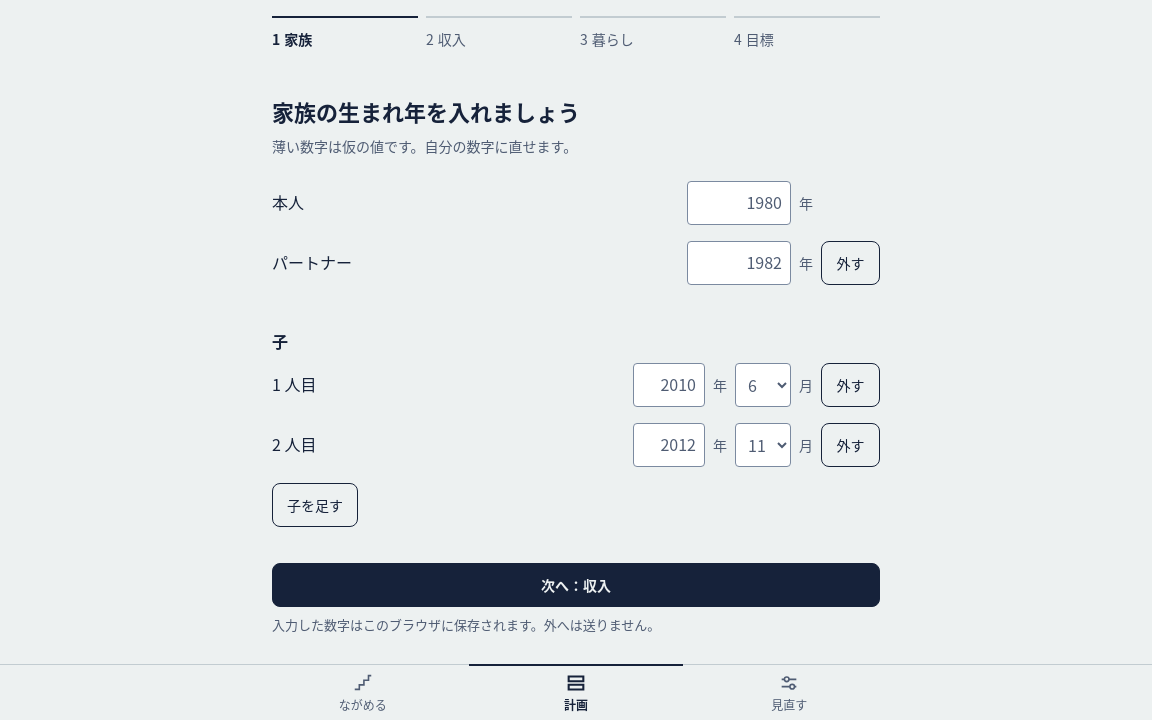
Test: 計画（T6） › 子とパートナーの「外す」は 2 回押し。外すとその行の印も外れる
The width and height of the screenshot is (1152, 720).
Earlier steps of the test are not shown.
Replace the text in the field labelled "1 人目" with "2011". click: (669, 385)
box: [633,363,705,407]
Click the button with aria-label "1 人目の子を外す". click: (850, 385)
box: [821,363,880,407]
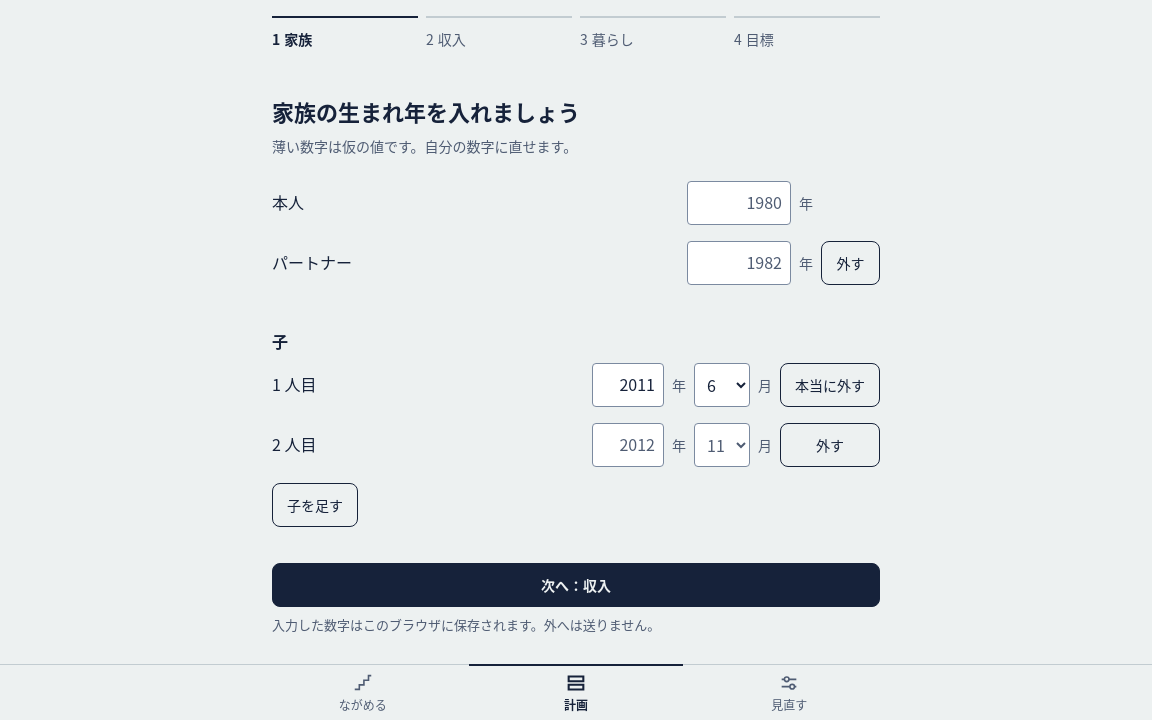
Result: the button with aria-label "2 人目の子を外す" is shown at [780,423,880,467]
Click the button with aria-label "1 人目の子を本当に外す". click: (830, 385)
box: [780,363,880,407]
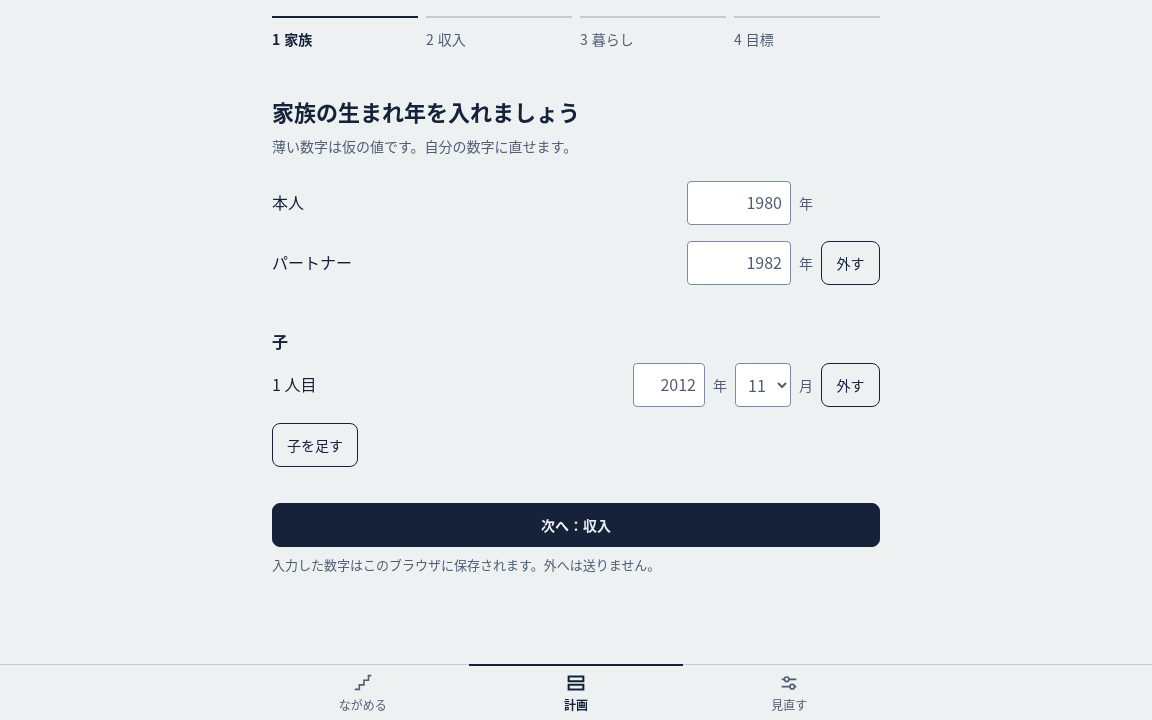
Click the button "子を足す". click: (315, 445)
box: [272,423,358,467]
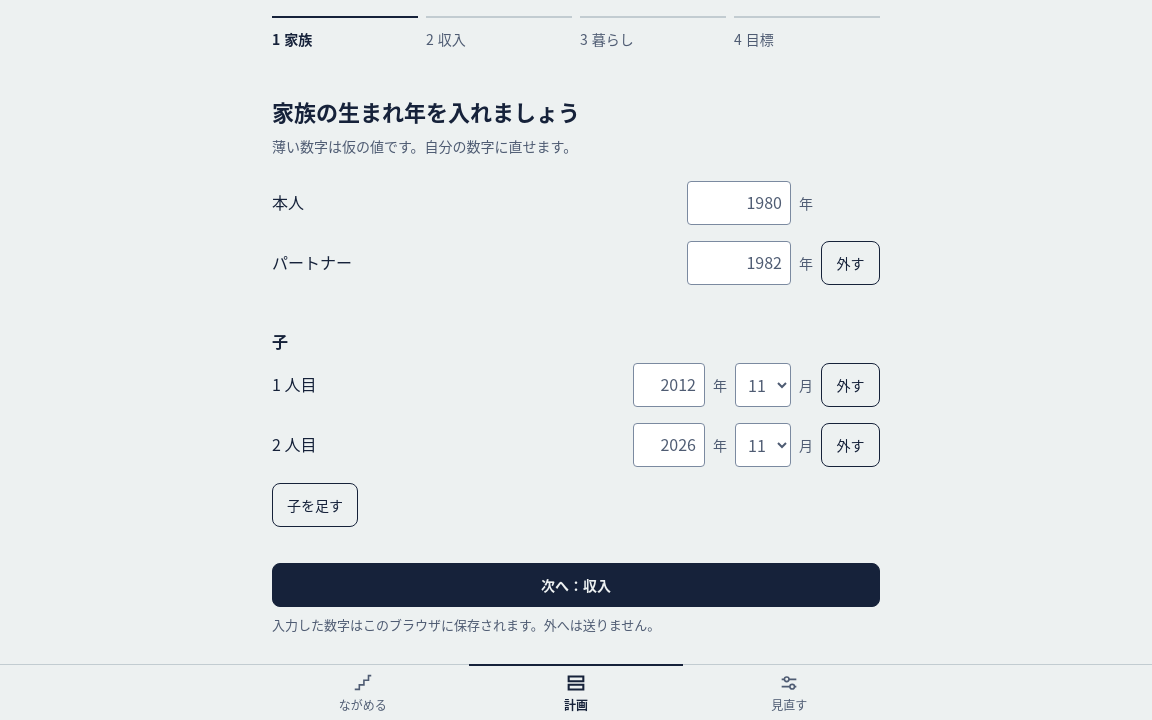
Result: the button with aria-label "2 人目の子を外す" is shown at [821,423,880,467]
Click the button with aria-label "パートナーを外す". click: (850, 263)
box: [821,241,880,285]
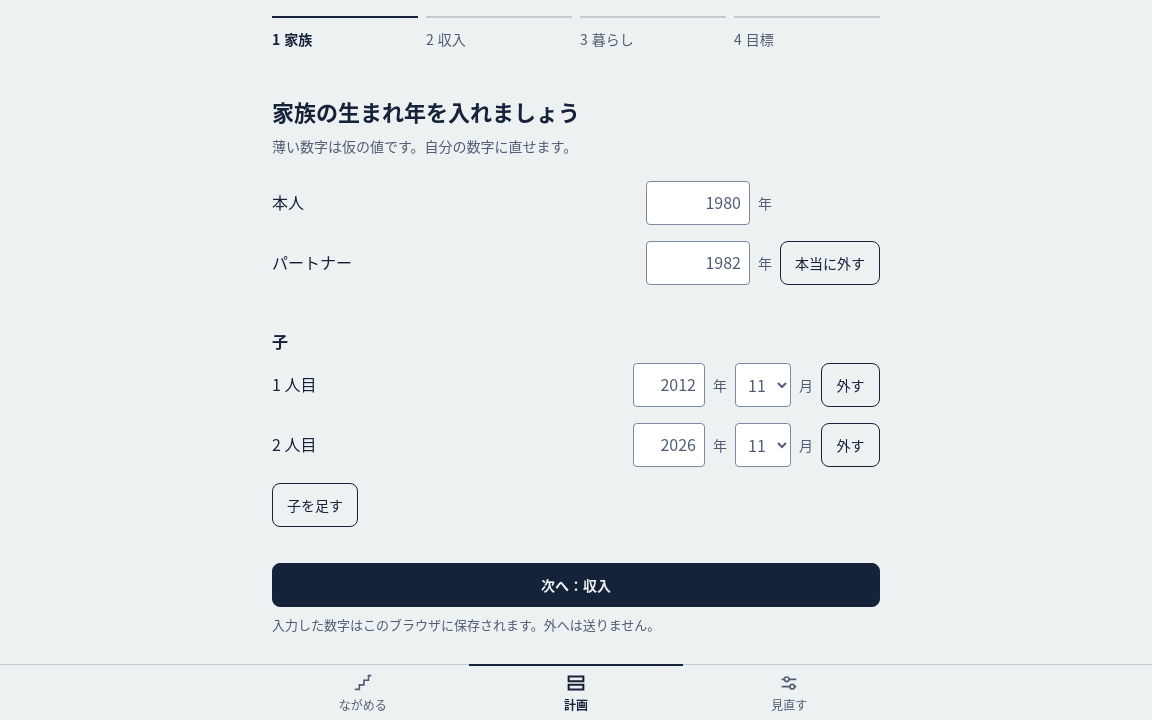
Expected: the button "パートナーを足す" is not shown
Click the button with aria-label "パートナーを本当に外す". click: (830, 263)
box: [780,241,880,285]
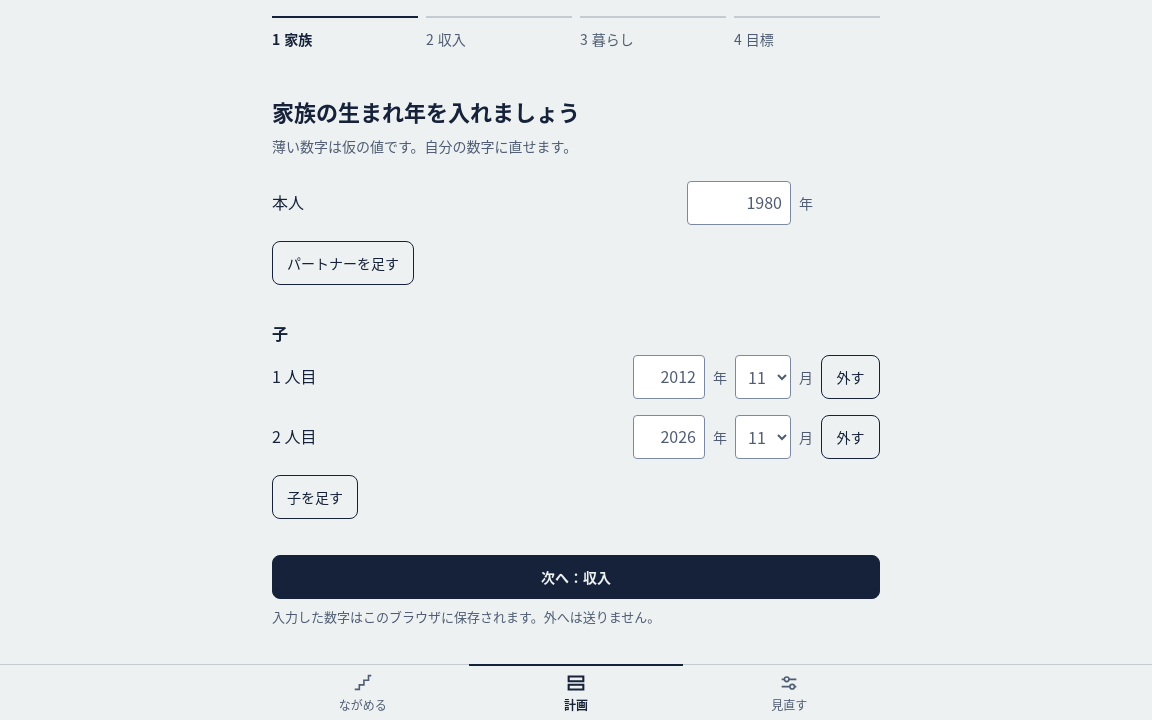
Result: the button "パートナーを足す" is shown
Click the button "パートナーを足す". click: (343, 263)
box: [272,241,414,285]
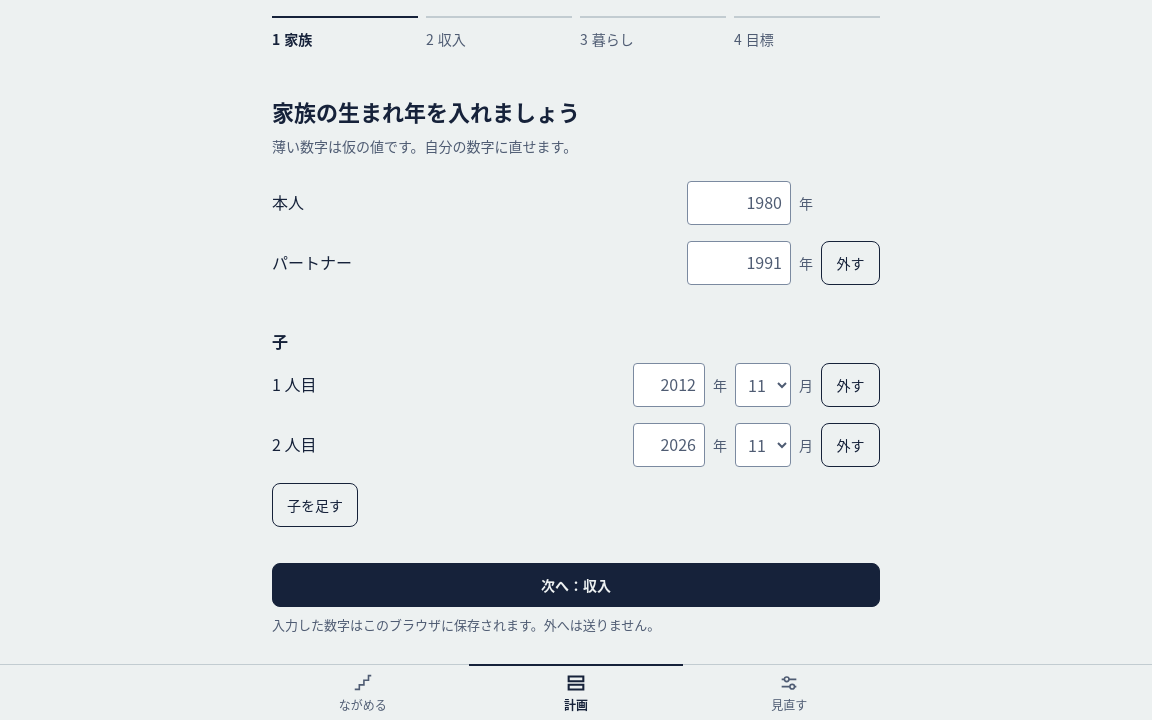
Result: the button with aria-label "パートナーを外す" is shown at [821,241,880,285]
